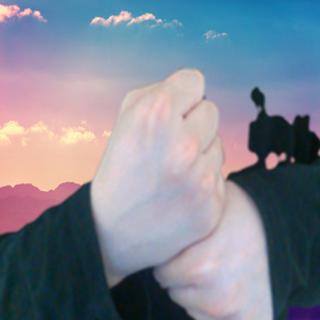CAREFUL: (83, 62, 274, 320)
